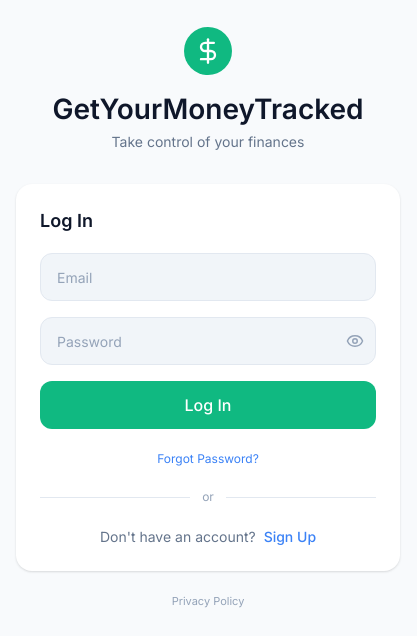
Test: LoginPage › shows email validation error when invalid email is submitted
The image size is (417, 636).
In the field with placeholder "Email": x=208, y=277 [40, 253, 376, 301], type "not-an-email"
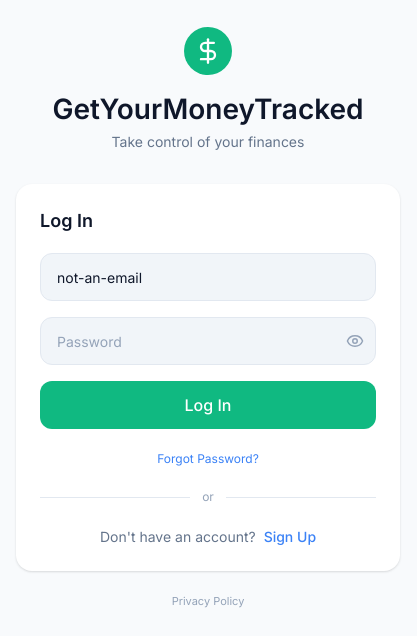
In the password field with placeholder "Password": x=208, y=341 [40, 317, 376, 365], type "password123"
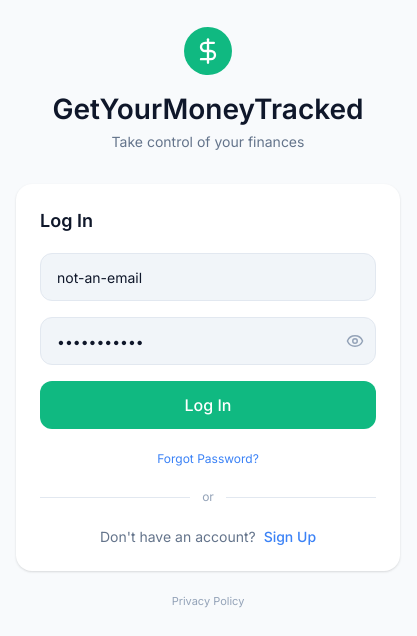
Submit the form, box [40, 253, 376, 429]
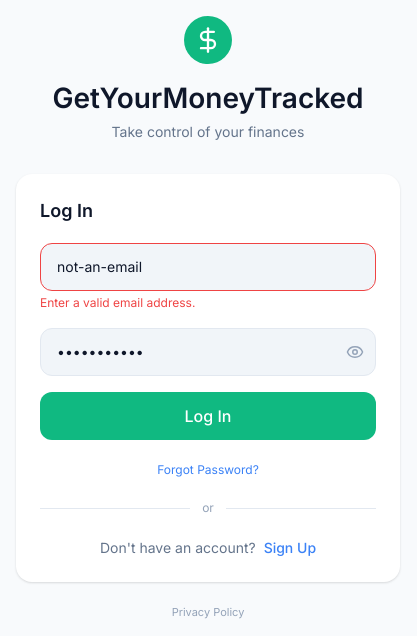
Now the text "Enter a valid email address." is shown, box [40, 295, 195, 310]
